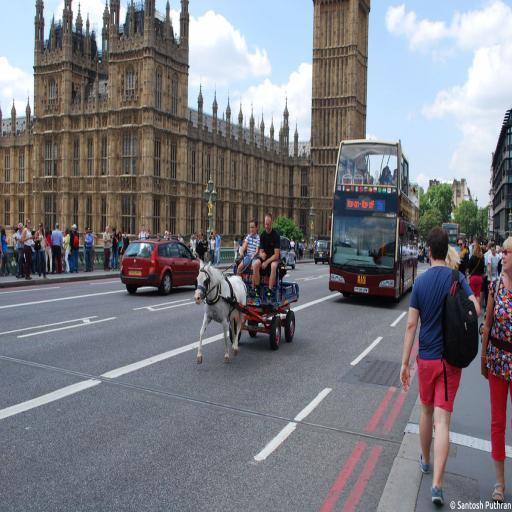Horse: (196, 258, 248, 364)
